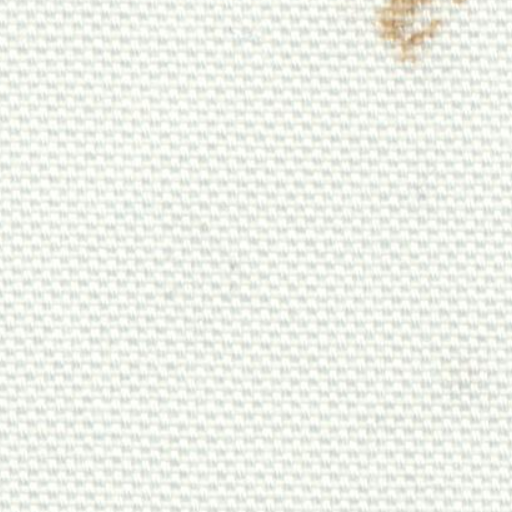WuZi: (365, 6, 472, 74)
